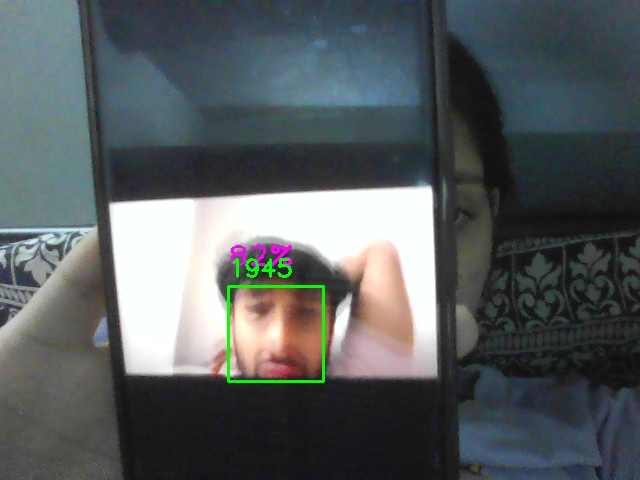fake: (228, 286, 324, 382)
